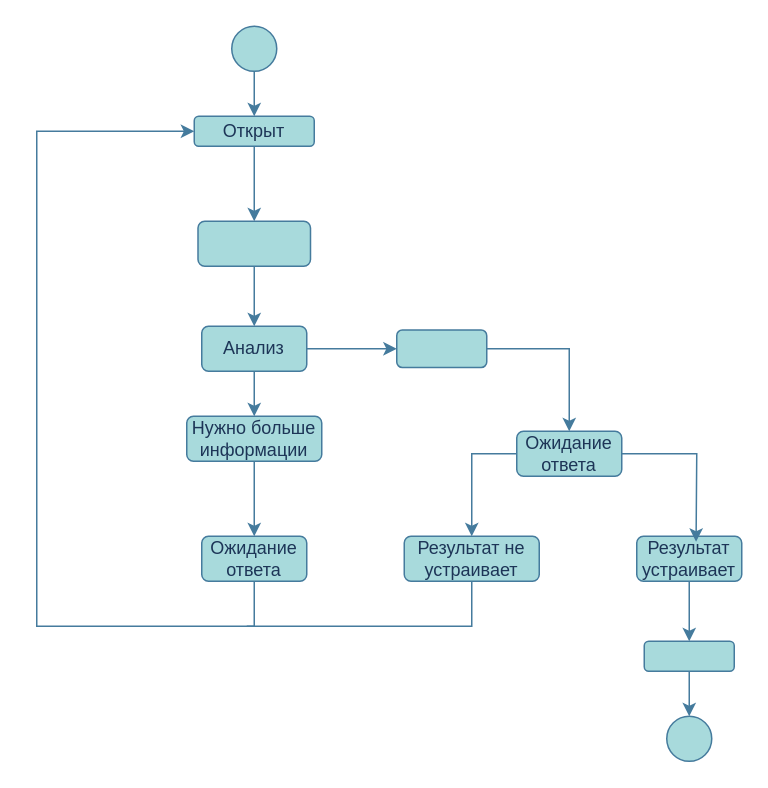
The diagram is 768 pixels wide and 788 high, and some of its shapes have lost their labels. The shapes that lost their labels are listed below. From the top down, each one's box as (x1, y1, x2, y2) in pixels, then its label:
(196, 220, 310, 266): В работе
(395, 328, 487, 368): Решение
(643, 640, 734, 671): Закрыт
